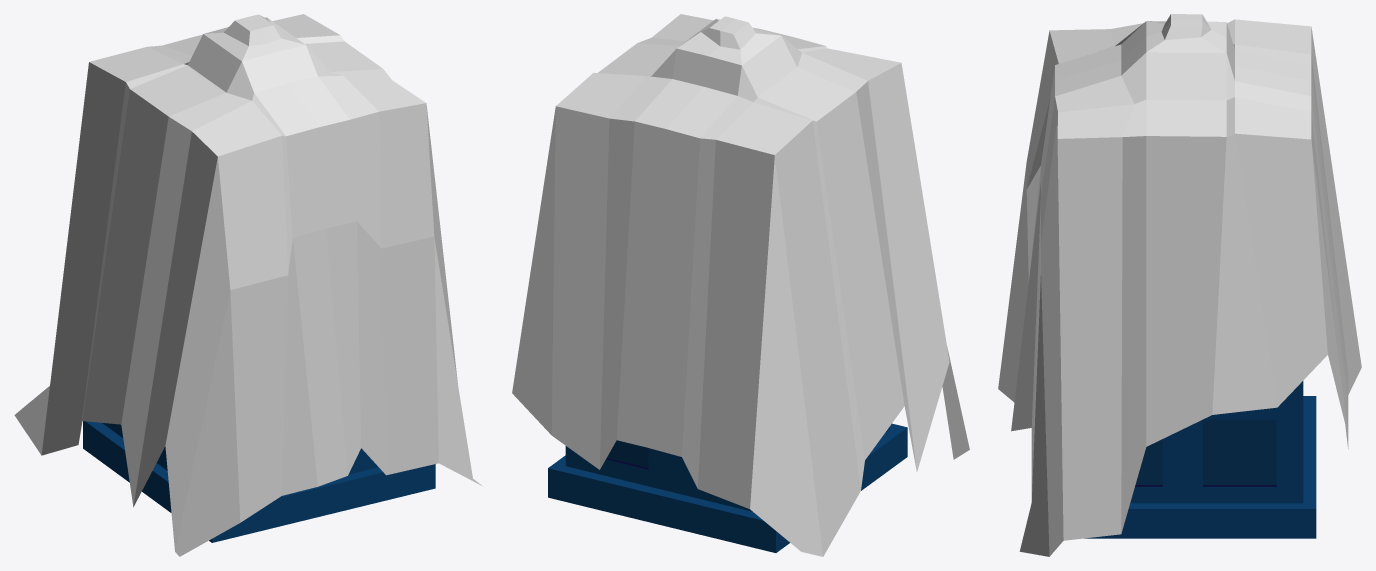
File: Tardis.glb
3 renders of one model, left to right at view 1: azimuth 30°, elevation 25°; view 2: azimuth 150°, elevation 25°; view 3: azimuth 270°, elevation 25°, orthographic. The views are drawn at different scales.
Parts seen in each view (by area): view 1: Plane, Cube; view 2: Plane, Cube; view 3: Plane, Cube.
Part boxes in pixels (left/top/right/bottom): Plane: left=14, top=14, right=481, bottom=556; Cube: left=83, top=421, right=435, bottom=542; Plane: left=512, top=14, right=969, bottom=556; Cube: left=548, top=423, right=907, bottom=552; Plane: left=998, top=14, right=1361, bottom=556; Cube: left=1084, top=381, right=1316, bottom=538.
Size of the model in its own units: 3.14 by 4.22 by 3.02.
